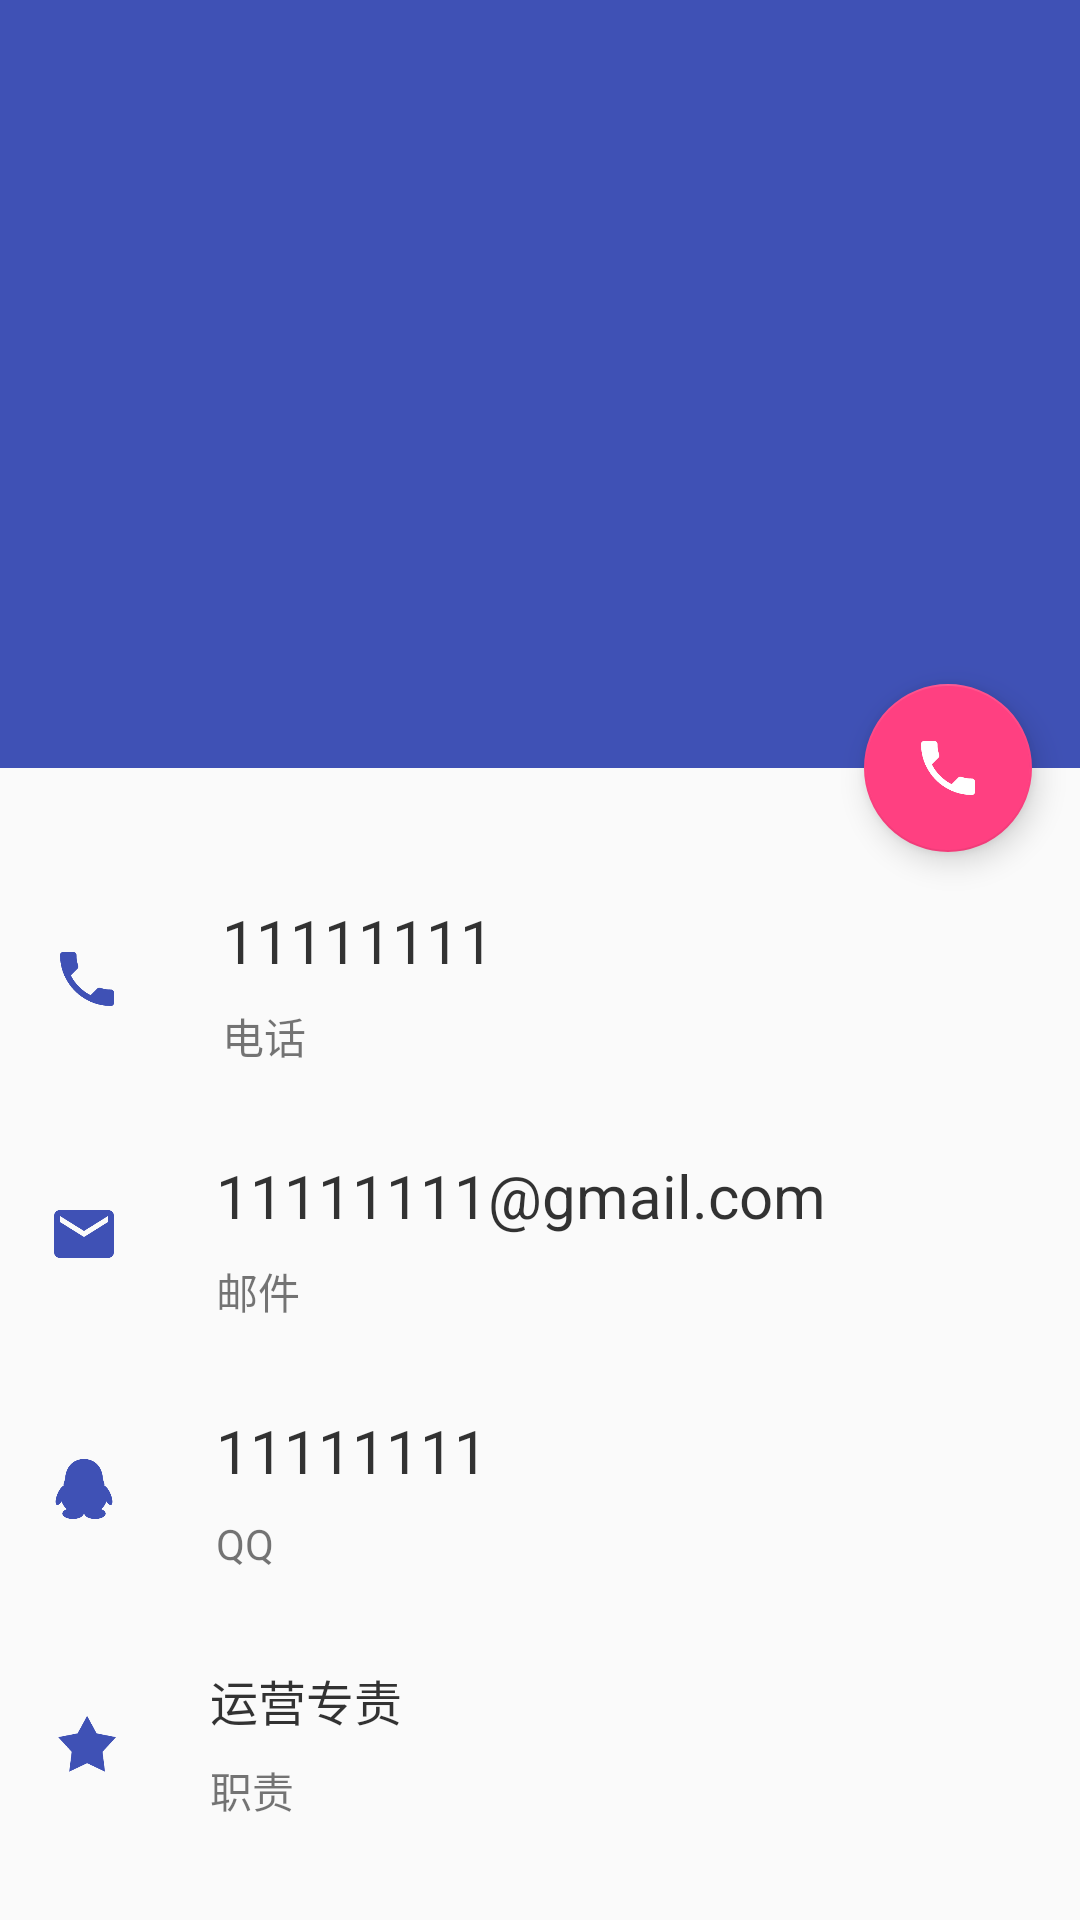

Screen size 1080 x 1920. Icon name, then its center in pixels as (x,y):
call: (948,768), (87,979)
star: (87,1744)
